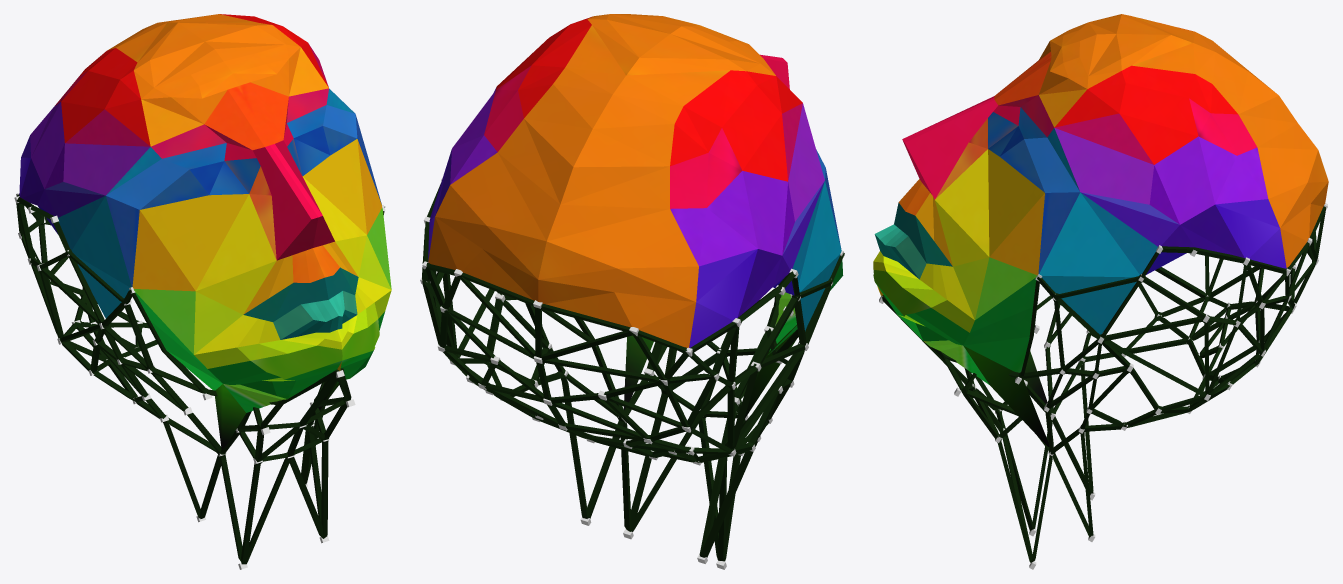
The model's file is CabezaInvenza.fbx.
3 views of the same model, side by side, from view 1: azimuth 30°, elevation 25°; view 2: azimuth 150°, elevation 25°; view 3: azimuth 270°, elevation 25° (orthographic). The views are drawn at different scales.
Visible parts, largest first — view 1: CabezaTexturizada, Edges, Vertex; view 2: CabezaTexturizada, Edges, Vertex; view 3: CabezaTexturizada, Edges, Vertex.
Part boxes in pixels (<box>): CabezaTexturizada: <box>19,14,391,449</box>; Edges: <box>16,194,384,564</box>; Vertex: <box>14,193,385,569</box>; CabezaTexturizada: <box>428,14,843,426</box>; Edges: <box>422,183,844,561</box>; Vertex: <box>420,177,844,569</box>; CabezaTexturizada: <box>873,14,1328,446</box>; Edges: <box>882,206,1325,562</box>; Vertex: <box>879,203,1327,569</box>.
Size of the model in its own units: 1531 by 2442 by 1998.
3 materials, 1 textured.
